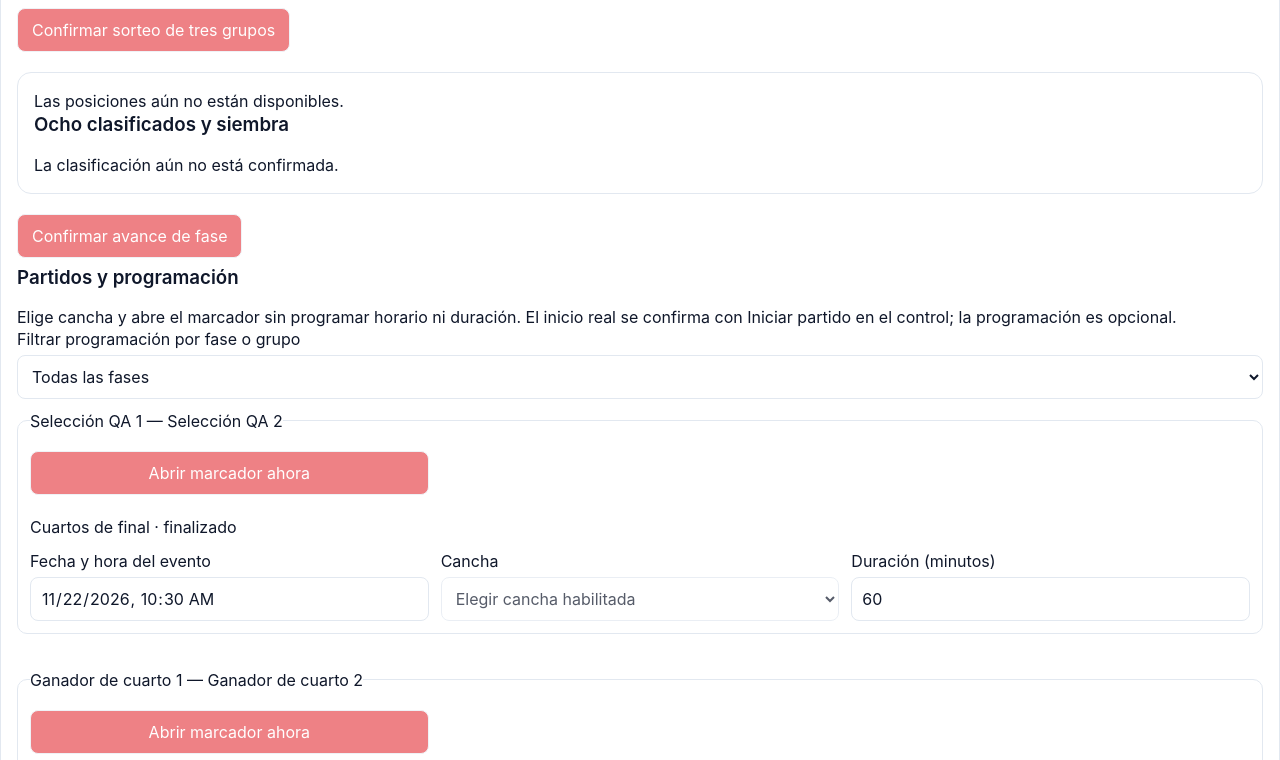
Scenario: finished fixtures cannot create a scoreboard and knockout origins remain explicit through schedule filtering
The width and height of the screenshot is (1280, 760).
(page scrolled)
Check: the text "Ganador de cuarto 1 — Ganador de cuarto 2" is shown, box top-left (30, 670), bottom-right (363, 690)
Check: the 1st button "Abrir marcador ahora" is disabled, box top-left (30, 451), bottom-right (429, 495)
Select "Final" in the dropdown labelled "Filtrar programación por fase o grupo": (640, 377) top-left (17, 355), bottom-right (1263, 399)
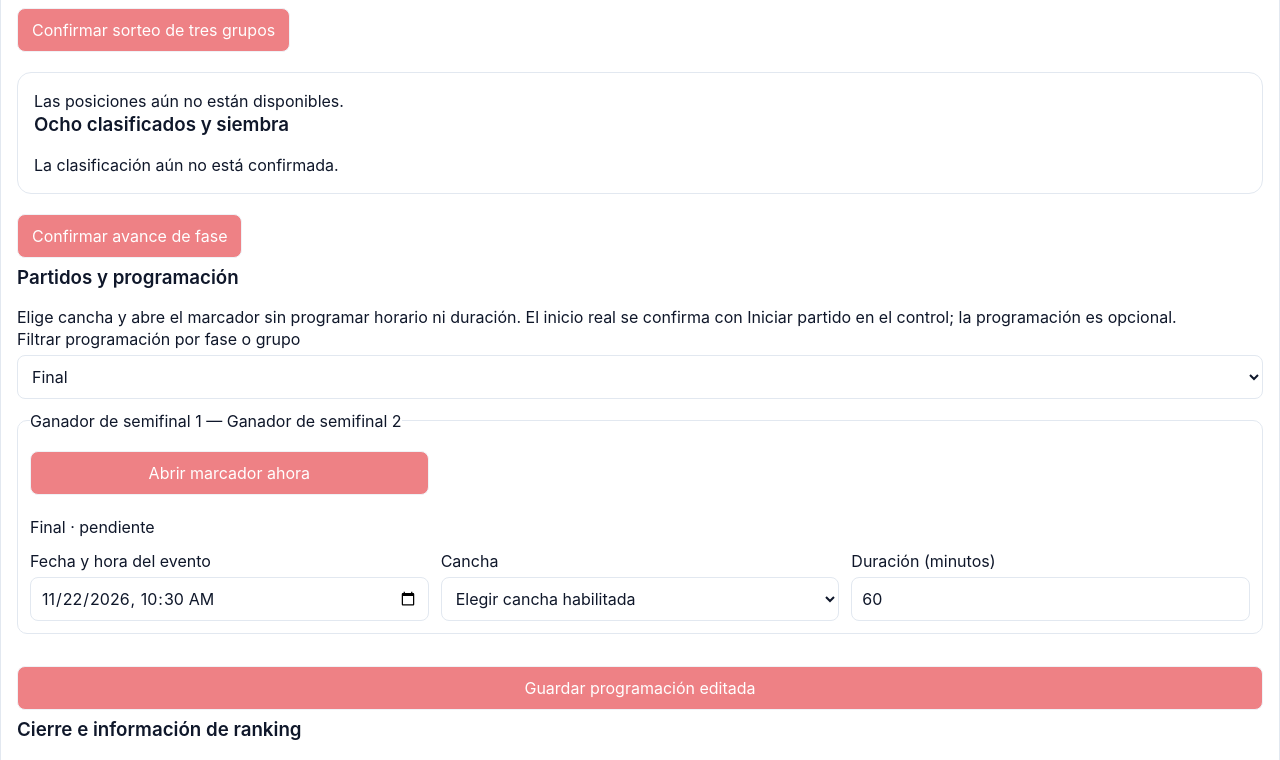
Check: the text "Ganador de semifinal 1 — Ganador de semifinal 2" is shown, box top-left (30, 411), bottom-right (402, 431)
Check: the text "Ganador de cuarto 1 — Ganador de cuarto 2" is gone
Check: the number of buttons "Abrir marcador ahora" is 1, box top-left (30, 451), bottom-right (429, 495)
